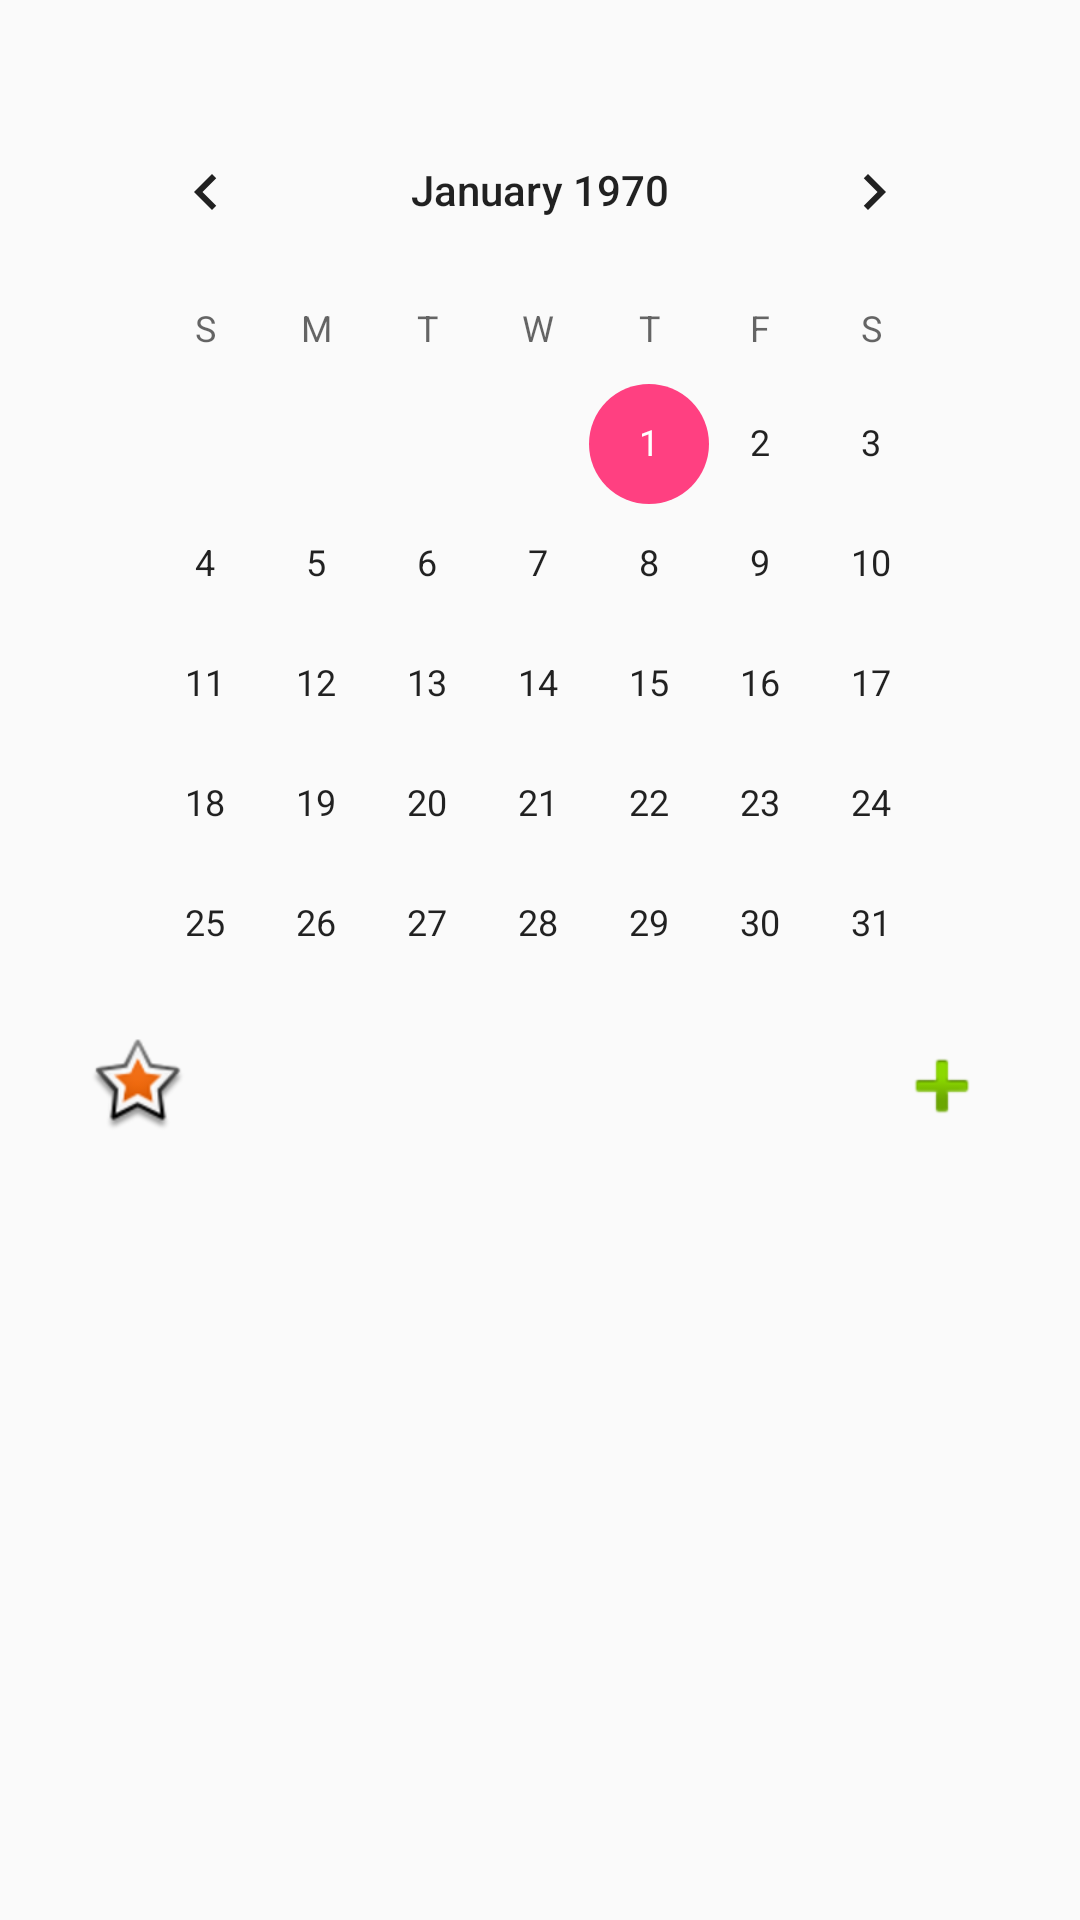

Point at icon controls on the screen. Image size 1080px×1920px, points as (x=x, y=y).
add: (x=942, y=1086)
star on: (x=138, y=1082)
